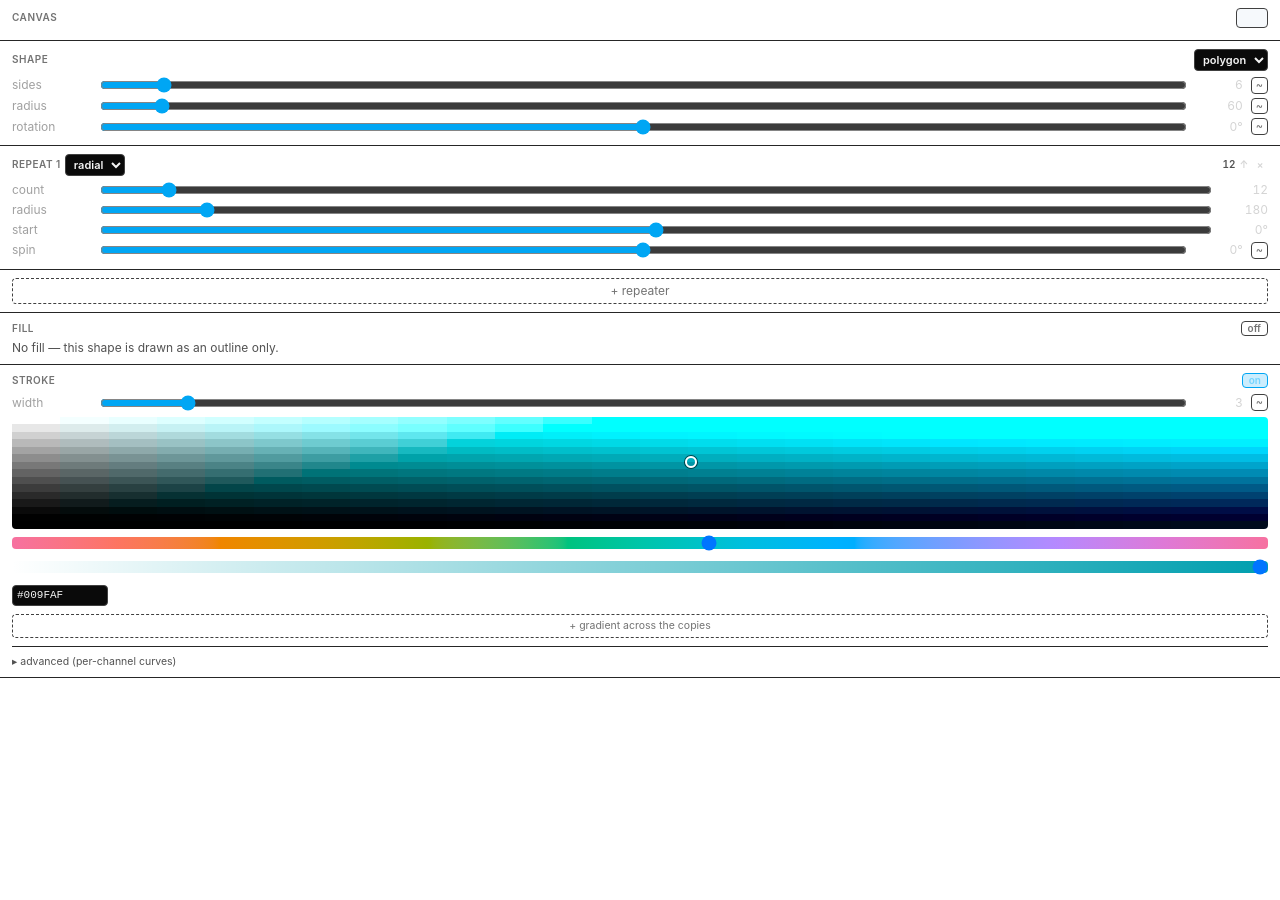
Test: Inspector › renders the stroke cards colour and width rows for a stroke-only layer, with no fill rows
Click the button "▸ advanced (per-channel curves)".
click(97, 661)  # box [12, 646, 1268, 669]
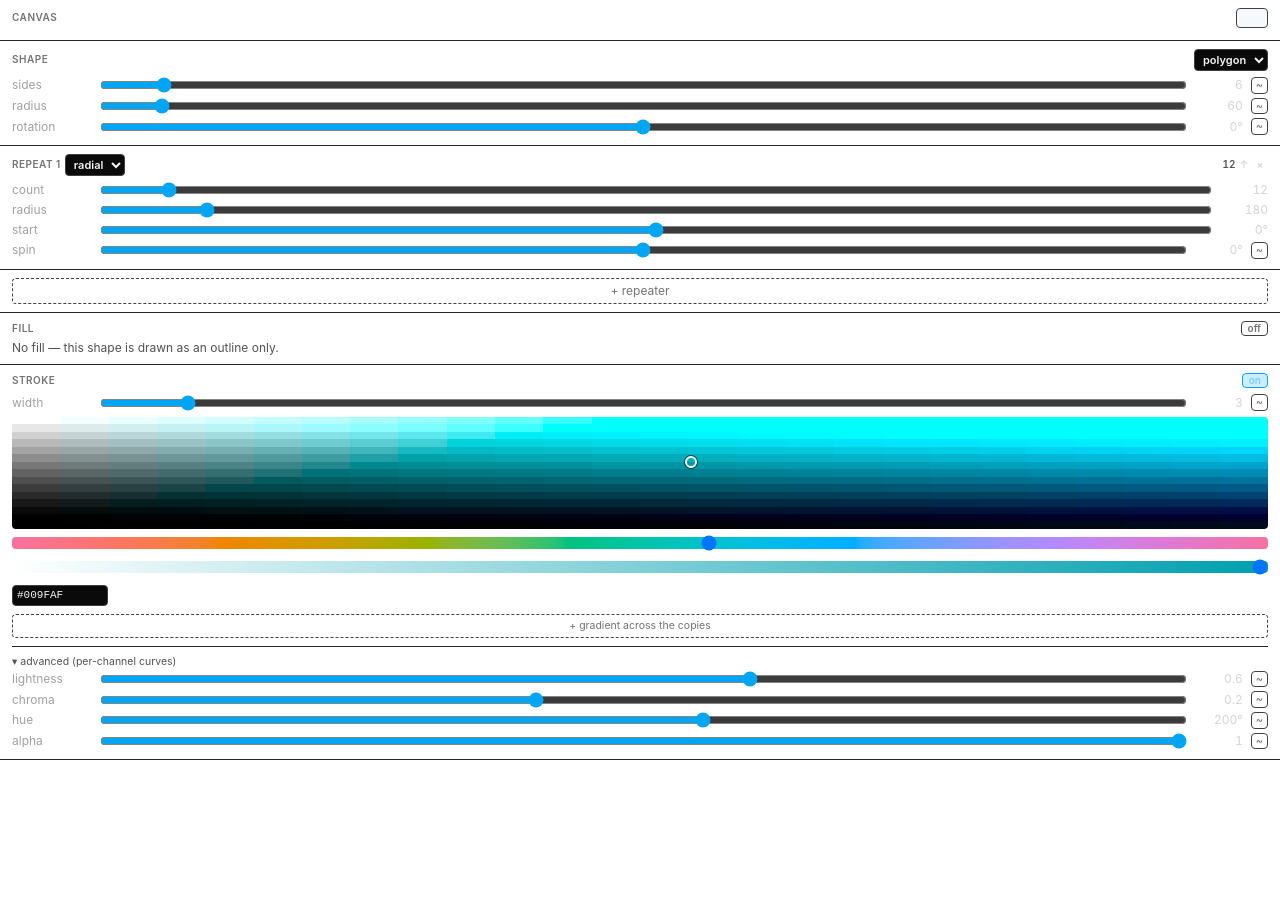
Check: the slider named "stroke channel lightness" is shown, box [100, 671, 1187, 687]
Check: the slider named "stroke channel chroma" is shown, box [100, 692, 1187, 708]
Check: the slider named "stroke channel hue" is shown, box [100, 712, 1187, 728]
